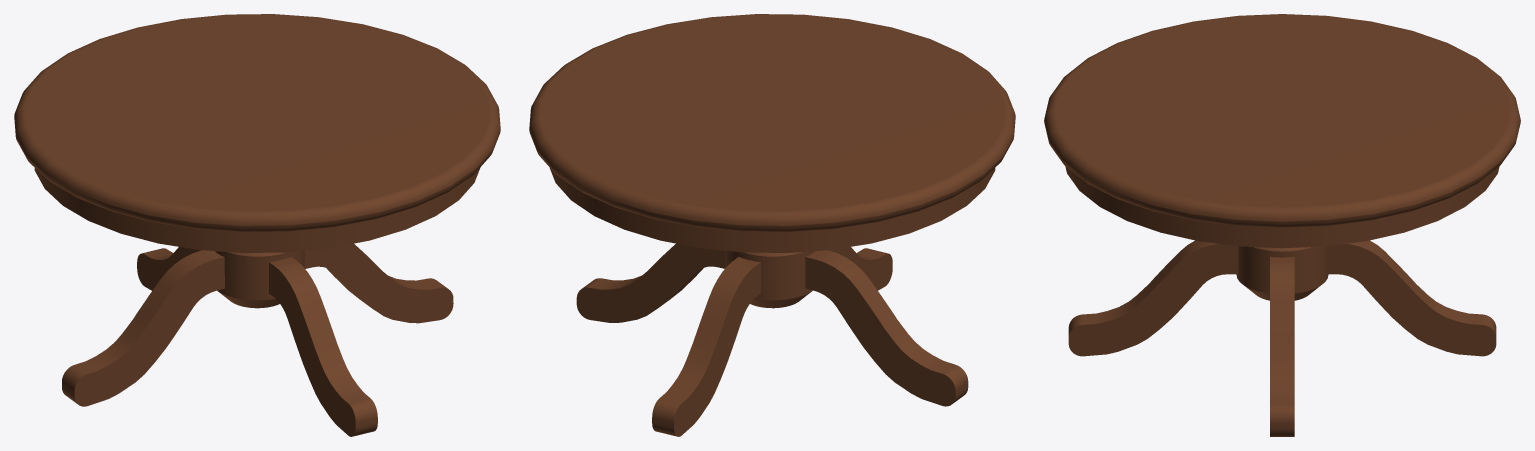
File: TableRonde_28.fbx
3 views of the same model, side by side, from view 1: azimuth 30°, elevation 25°; view 2: azimuth 150°, elevation 25°; view 3: azimuth 270°, elevation 25° (orthographic). The views are drawn at different scales.
Visible parts, largest first — view 1: pCylinder13, pCube17, pCube18, pCube19, pCube16; view 2: pCylinder13, pCube17, pCube16, pCube19, pCube18; view 3: pCylinder13, pCube16, pCube18, pCube19.
Boxes of the visible parts, box(x1,y1,x2,y2) form: pCylinder13: box(14, 14, 500, 308); pCube17: box(62, 250, 224, 406); pCube18: box(269, 257, 377, 436); pCube19: box(304, 243, 453, 323); pCube16: box(137, 247, 200, 290); pCylinder13: box(529, 14, 1015, 308); pCube17: box(805, 250, 968, 406); pCube16: box(652, 257, 760, 436); pCube19: box(576, 243, 725, 322); pCube18: box(829, 247, 892, 290); pCylinder13: box(1044, 14, 1520, 300); pCube16: box(1326, 240, 1496, 356); pCube18: box(1068, 240, 1238, 356); pCube19: box(1270, 257, 1294, 436).
Bounding box in the file's own units: 50.5 × 28.04 × 50.5.
